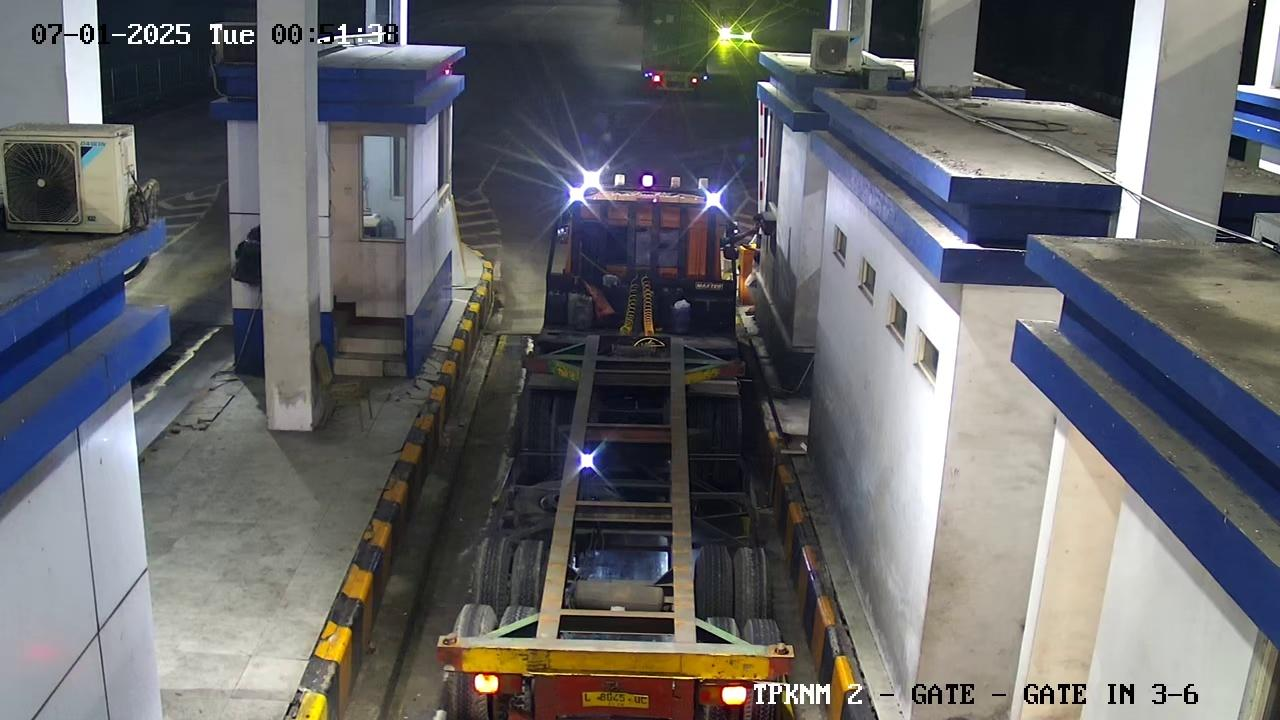plate_number: (570, 677, 683, 719)
